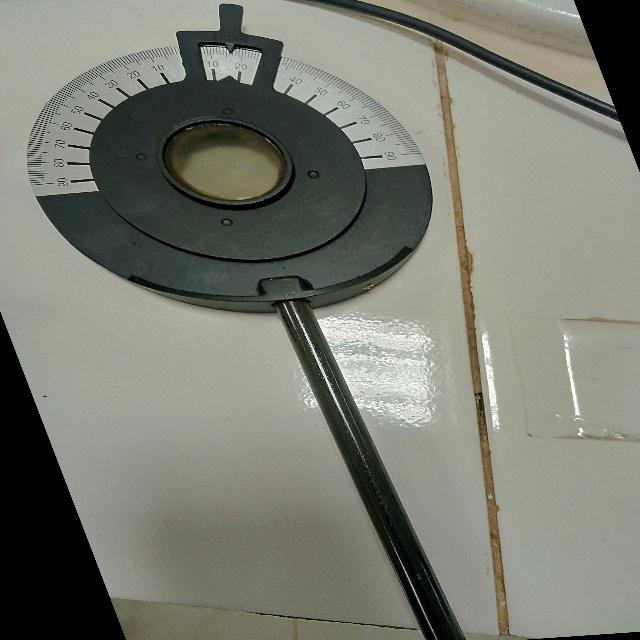Optical Polarizer: (0, 0, 630, 640)
